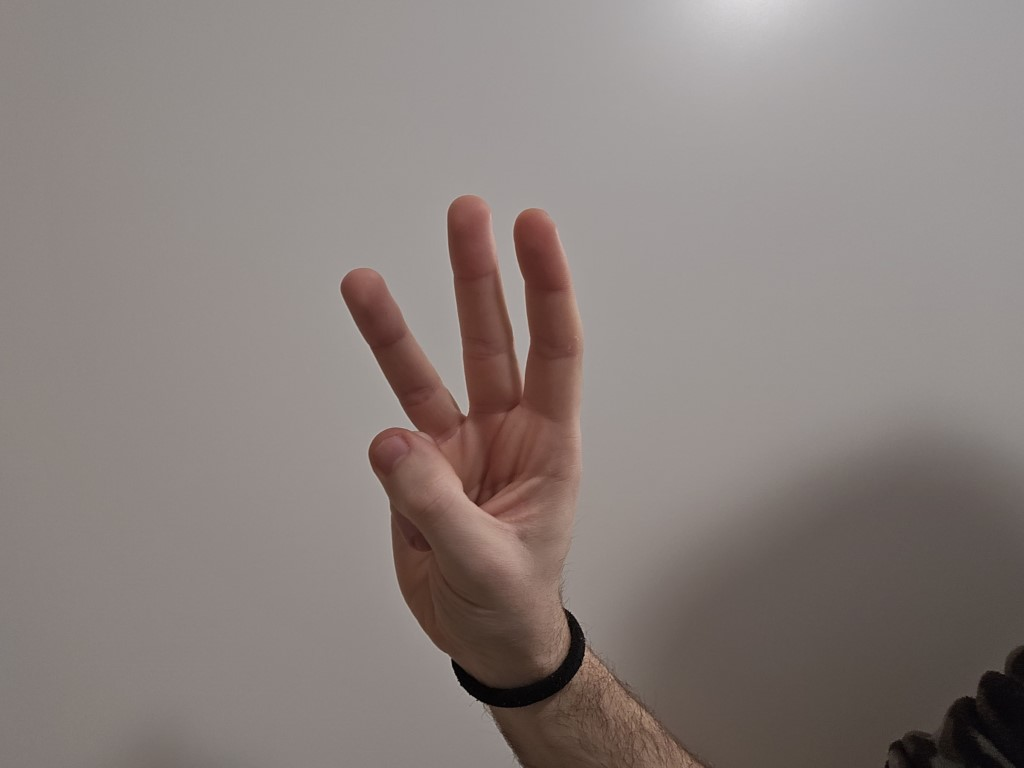w: (301, 177, 630, 663)
